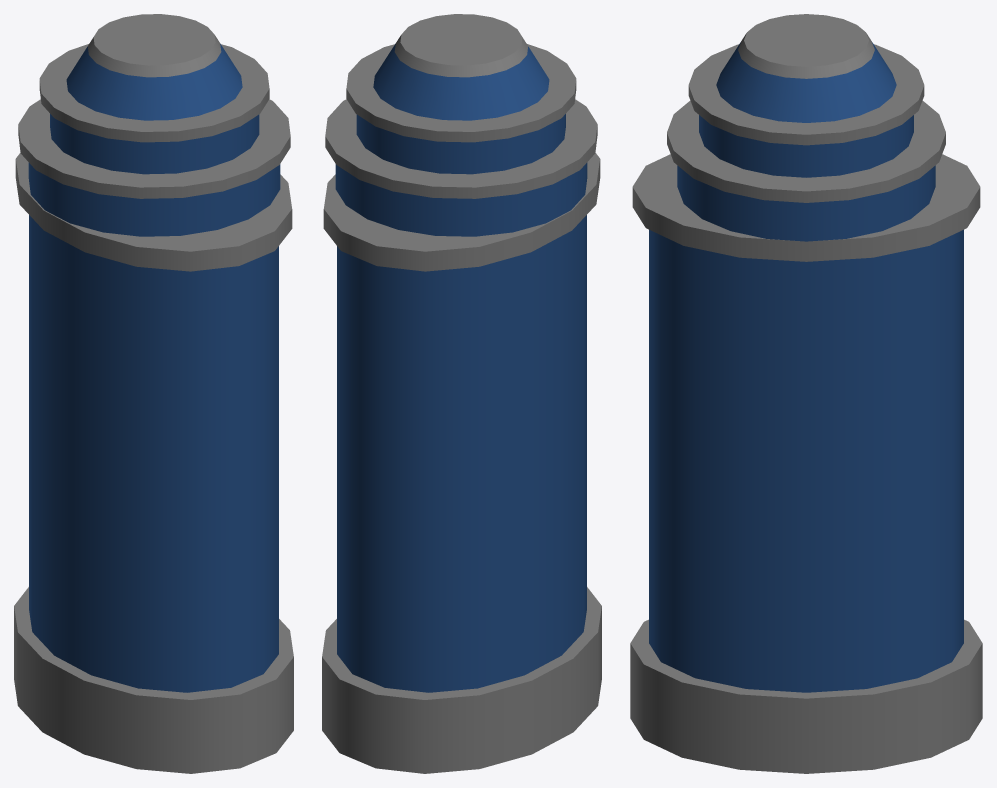
File: SM_HighRise_02.gltf
The picture shows the model from 3 angles, left to right: view 1: azimuth 30°, elevation 25°; view 2: azimuth 150°, elevation 25°; view 3: azimuth 270°, elevation 25°; orthographic projection.
Parts seen in each view (by area): view 1: node-0; view 2: node-0; view 3: node-0.
Boxes of the visible parts, left/top/right/bottom form: node-0: left=14, top=14, right=293, bottom=773; node-0: left=322, top=14, right=601, bottom=773; node-0: left=630, top=14, right=982, bottom=773.
Bounding box in the file's own units: 60.91 × 163 × 76.86.
